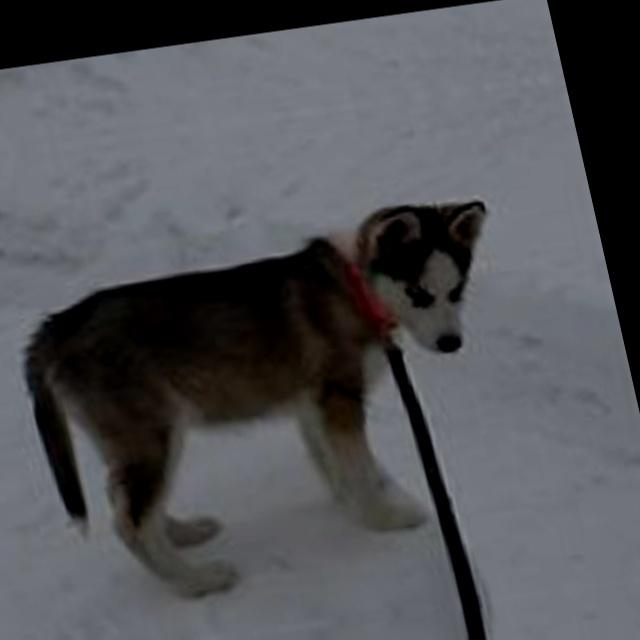dog: (0, 170, 587, 634)
